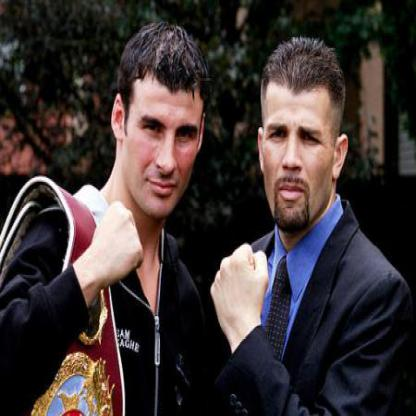face: (124, 30, 203, 221), (263, 43, 338, 237)
